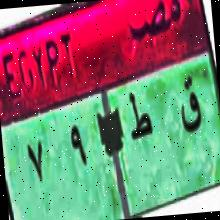7: (23, 136, 50, 188)
9: (66, 117, 92, 174)
Taa: (121, 84, 156, 148)
qaaf: (173, 68, 206, 143)
